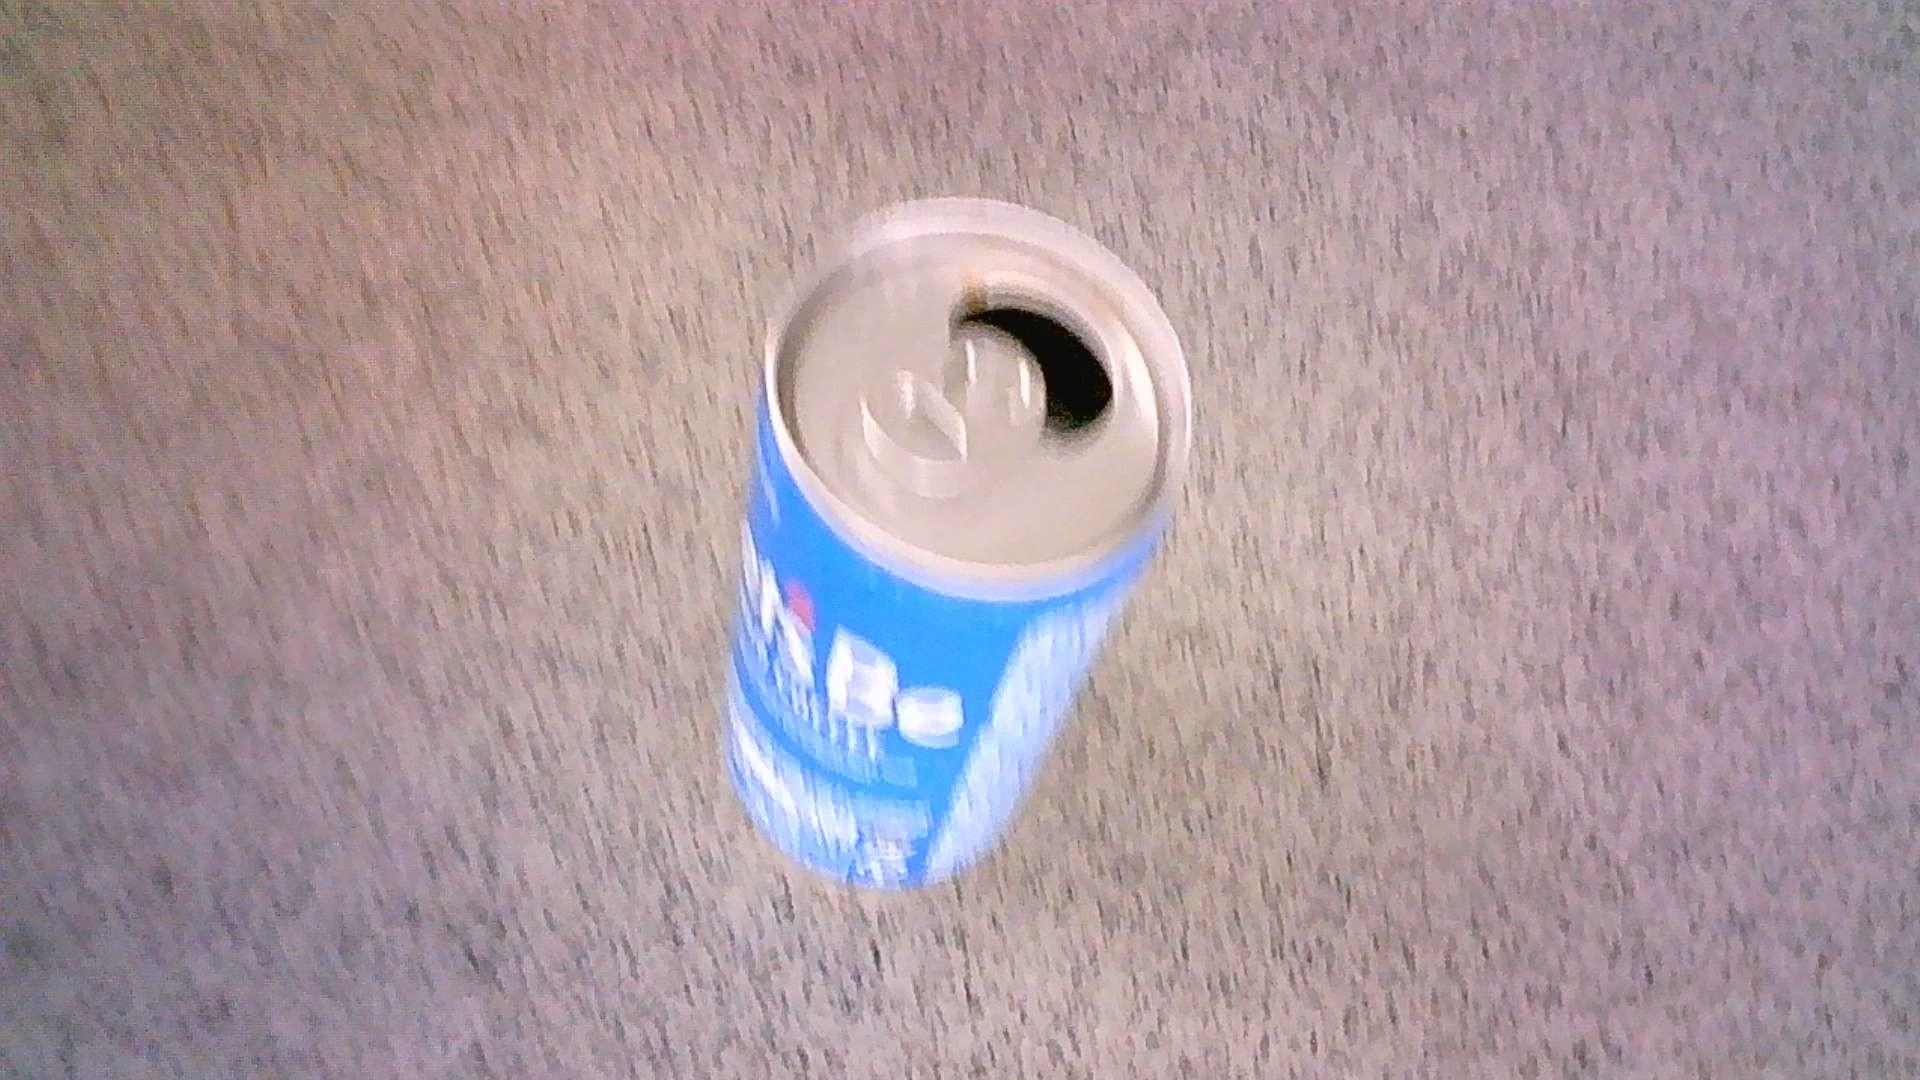letsbe: (724, 196, 1195, 889)
